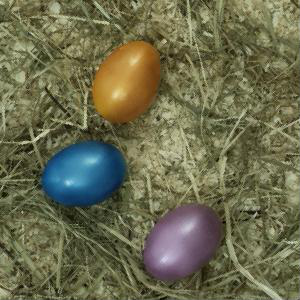egg: (142, 203, 221, 283), (91, 39, 160, 124), (41, 141, 126, 206)
